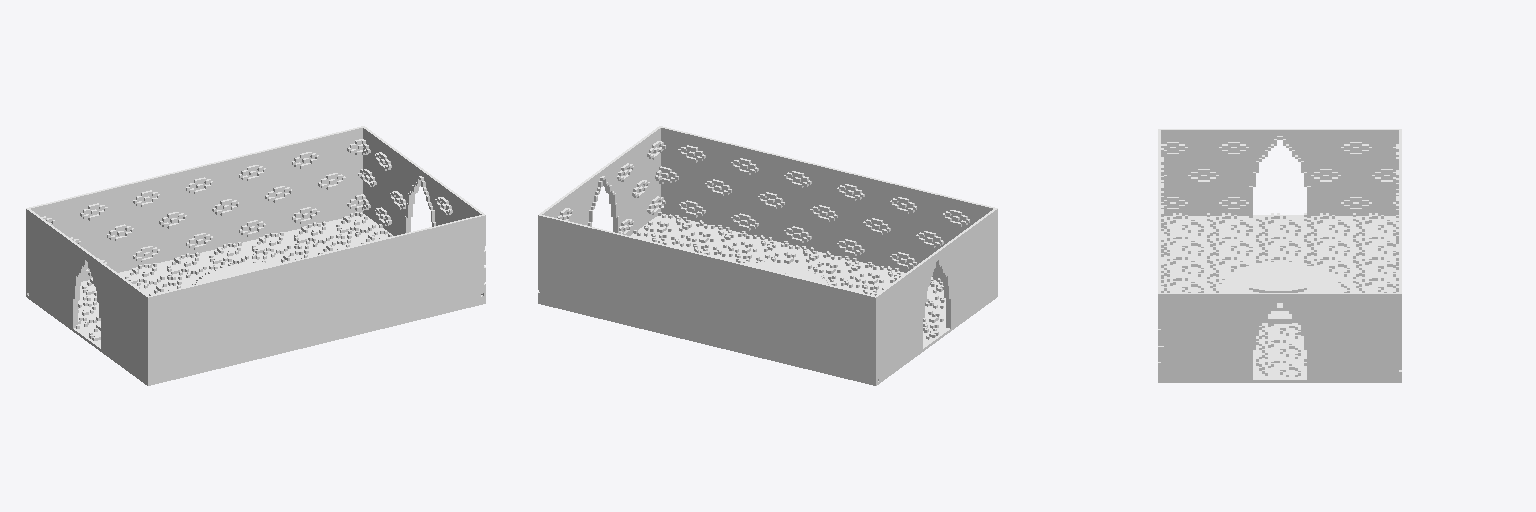
File: cultroom.obj
3 renders of one model, left to right at view 1: azimuth 30°, elevation 25°; view 2: azimuth 150°, elevation 25°; view 3: azimuth 270°, elevation 25°, orthographic.
Visible parts, largest first — view 1: object 1; view 2: object 1; view 3: object 1.
Part boxes in pixels (left/top/right/bottom): object 1: left=26, top=126, right=485, bottom=385; object 1: left=538, top=126, right=997, bottom=385; object 1: left=1158, top=129, right=1401, bottom=382.
Bounding box in the file's own units: 12.8 × 3.2 × 8.